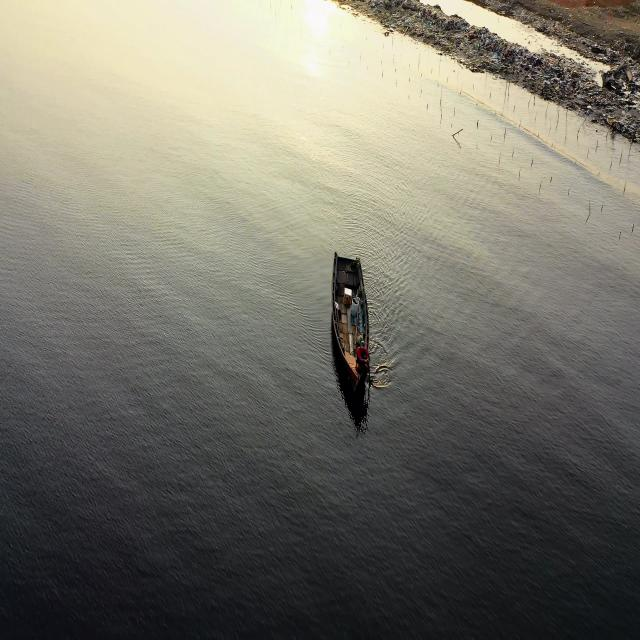ship: (324, 247, 380, 402)
